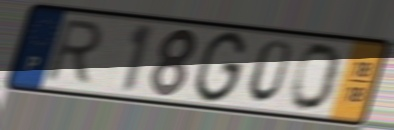0: (242, 39, 294, 107)
1: (122, 22, 156, 95)
8: (147, 26, 199, 99)
G: (190, 30, 249, 106)
O: (288, 41, 346, 114)
R: (41, 17, 107, 87)
